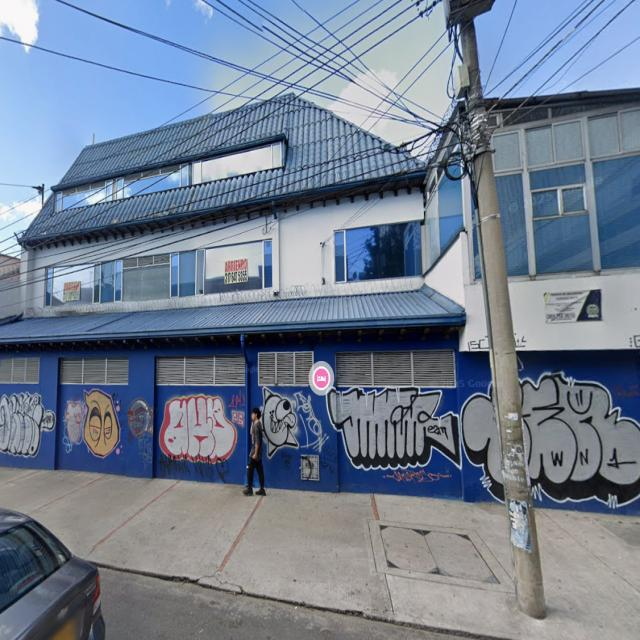fachada: (0, 96, 501, 499), (0, 254, 20, 321)
poste: (461, 20, 545, 618)
